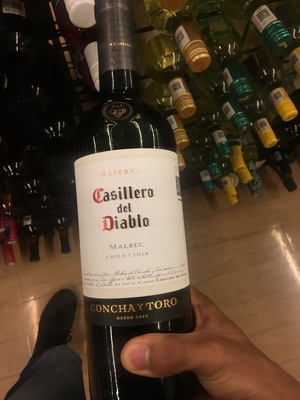casillero del diablo malbec: (63, 16, 212, 400)
